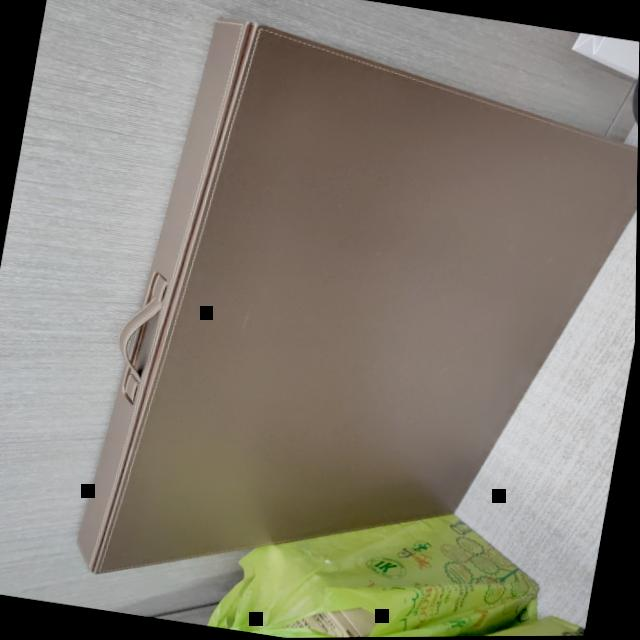luggage: (79, 20, 638, 575)
